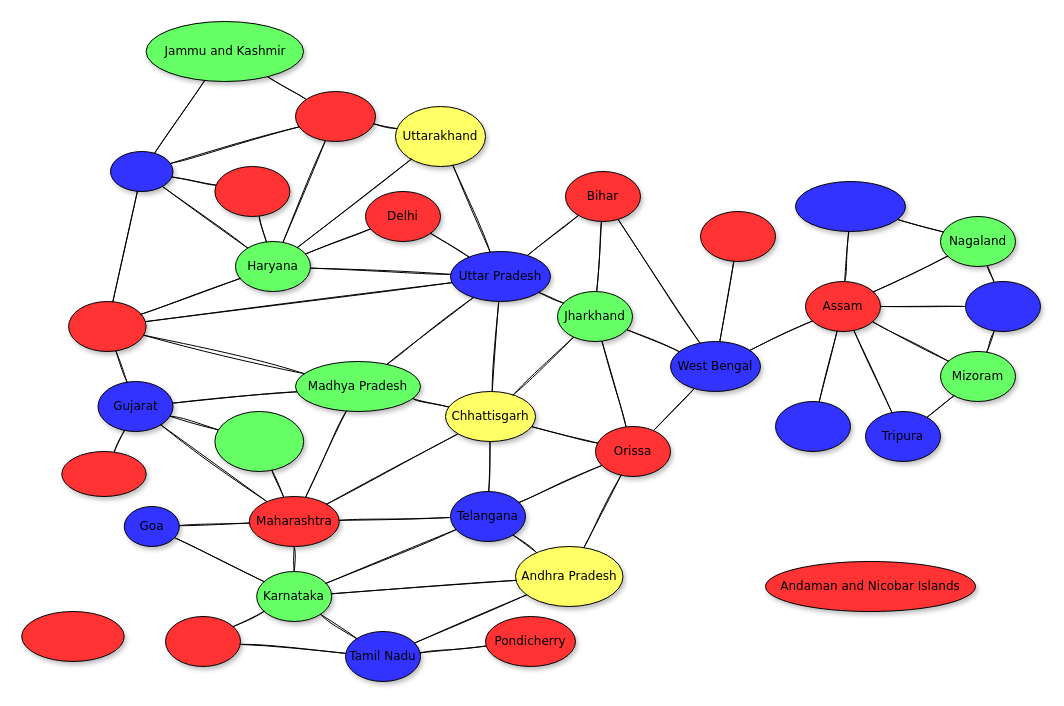
Some shapes in this 1064 by 706 pixel diagram are drawn without their labels. Each missing label, with the centre of its shape:
Arunachal Pradesh: [851,207]
Chandigarh: [253,193]
Dadra and Nagar Haveli: [260,442]
Daman and Diu: [104,475]
Himachal Pradesh: [336,117]
Kerala: [203,643]
Lakshadweep: [73,637]
Manipur: [1003,307]
Meghalaya: [813,427]
Punjab: [142,172]
Rajasthan: [108,327]
Sikkim: [739,237]
